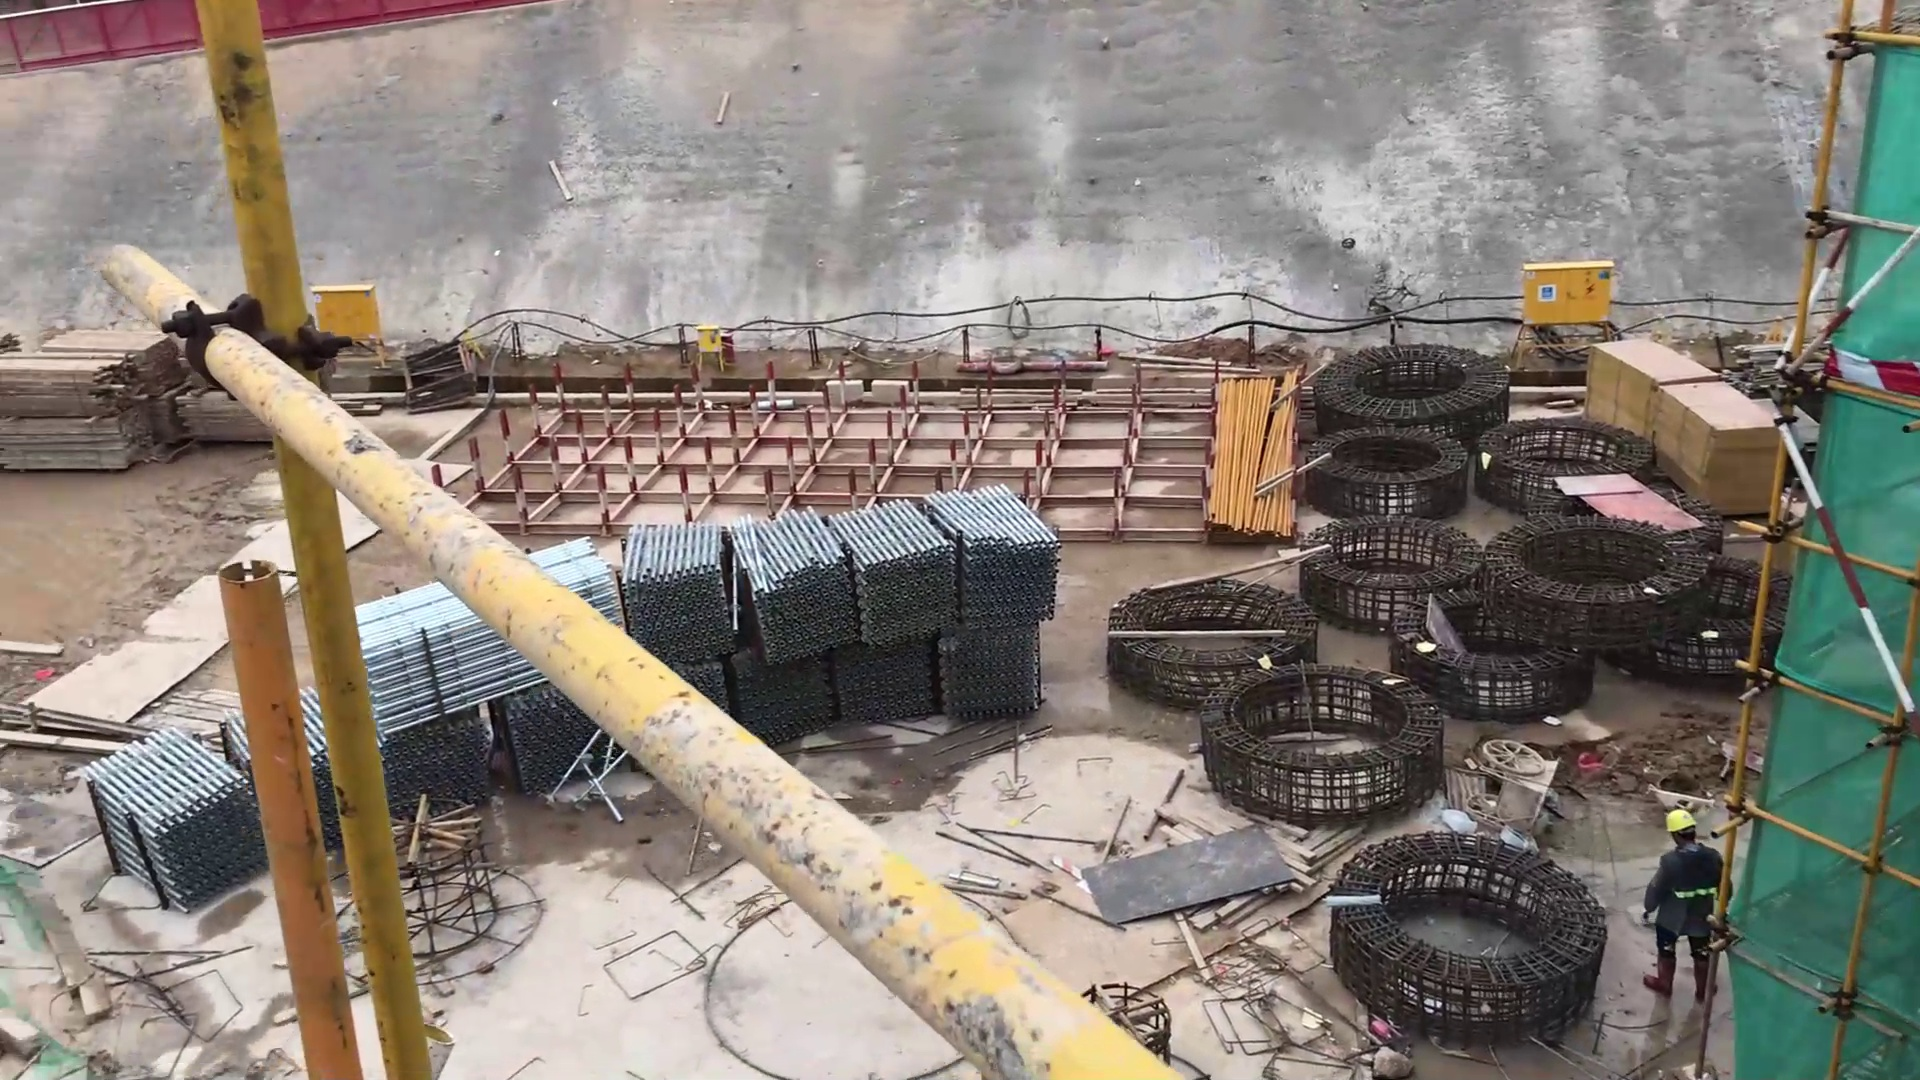board: (1586, 331, 1780, 523), (1556, 463, 1704, 552)
ebox: (306, 268, 407, 394), (1520, 259, 1619, 329), (693, 323, 726, 374)
helmet: (1663, 809, 1698, 835)
person: (1634, 805, 1734, 1015)
scaffold: (75, 724, 254, 923), (352, 592, 551, 726), (918, 485, 1073, 633), (832, 498, 964, 650), (741, 509, 862, 659), (611, 526, 737, 655), (825, 639, 960, 734), (734, 645, 849, 748), (937, 624, 1044, 727)
wood: (4, 327, 163, 475), (170, 386, 274, 452)
